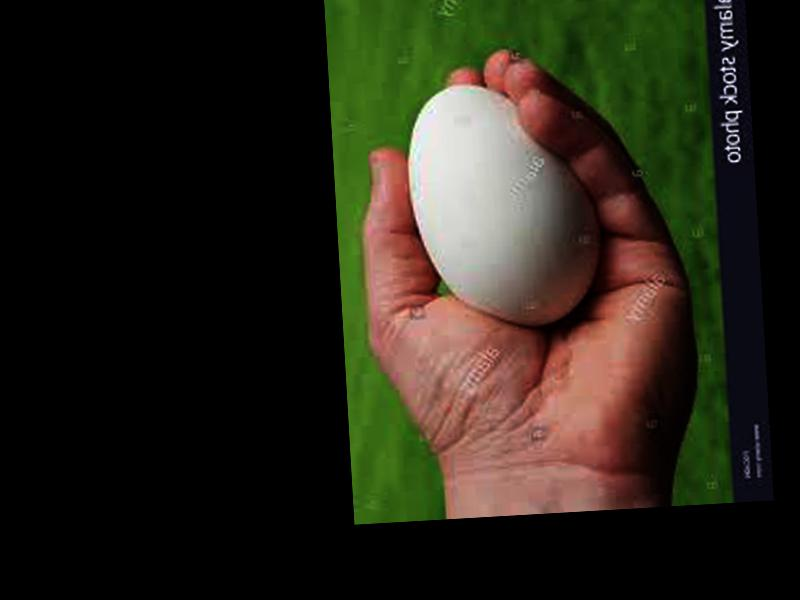Eggs: (402, 78, 606, 337)
